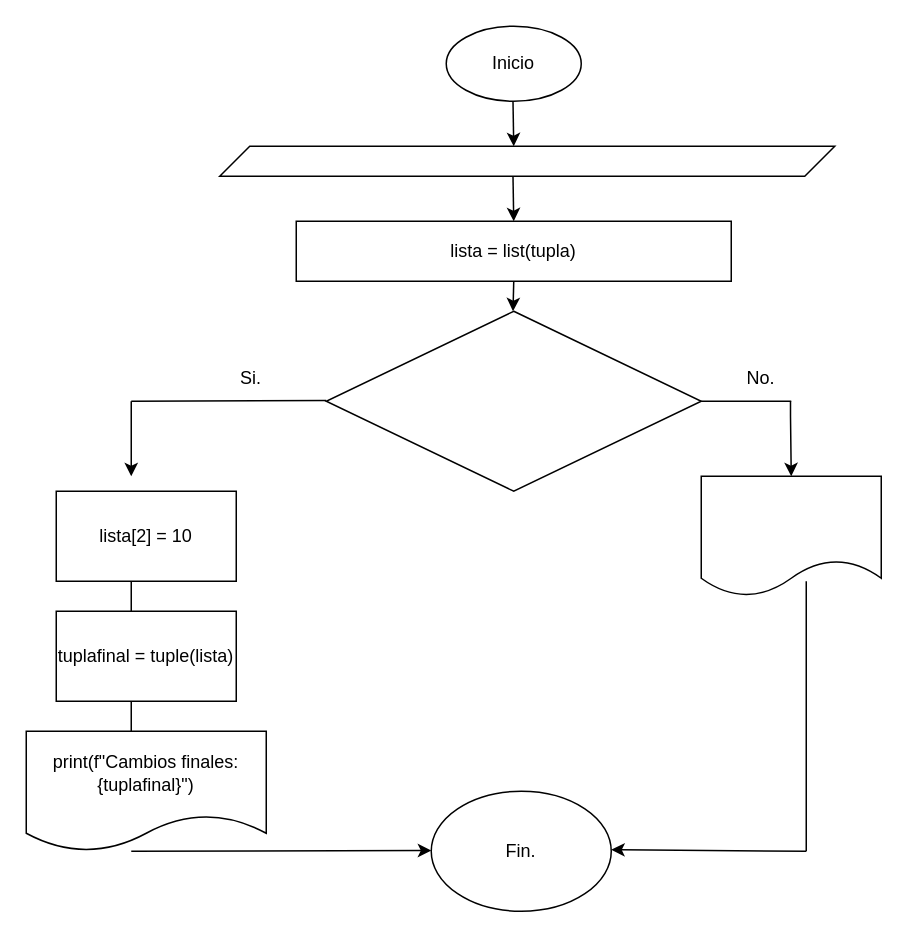
The diagram is 908 pixels wide and 938 high, and some of its shapes have lost their labels. Each missing label, with the centre of its shape:
lista[1] == 2: (513,400)
No se realizaran mas cambios a parte de convertirlo a lista: (790,535)
tupla = (1,2,3): (526,160)
